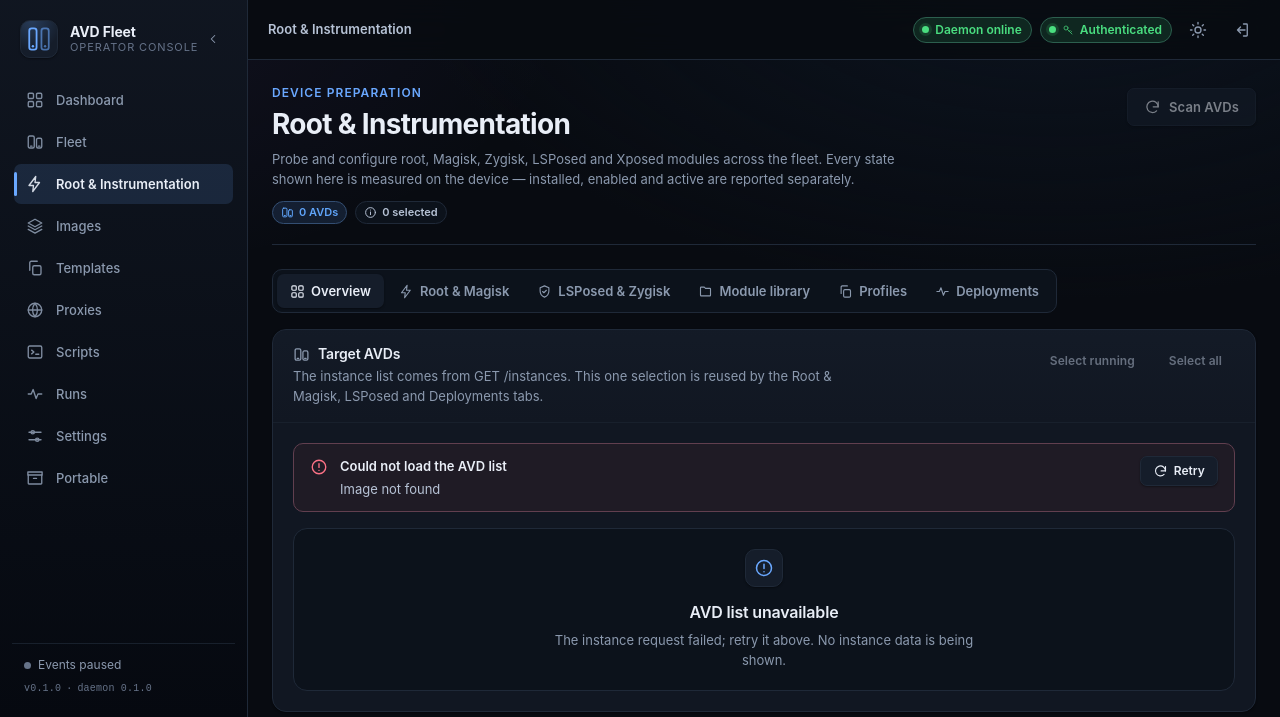
Scenario: Root & Instrumentation page › never shows a success toast when a module import fails and surfaces the API error
Check: the heading "Root & Instrumentation" is shown, box x1=272 y1=108 x2=570 y2=141
Click the tab "Module library": (754, 291) x1=685 y1=274 x2=823 y2=308
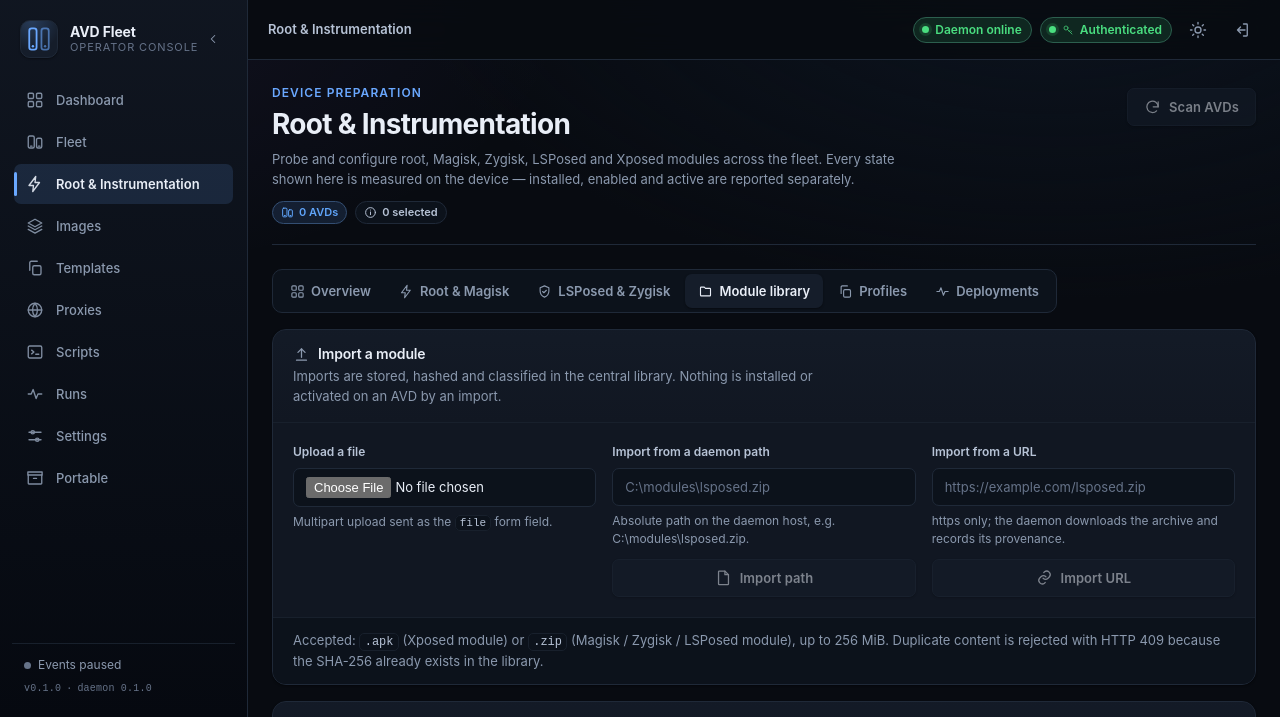
In the field labelled "Import from a daemon path": (764, 487) x1=612 y1=468 x2=916 y2=506, type "C:\\modules\\notes.txt"
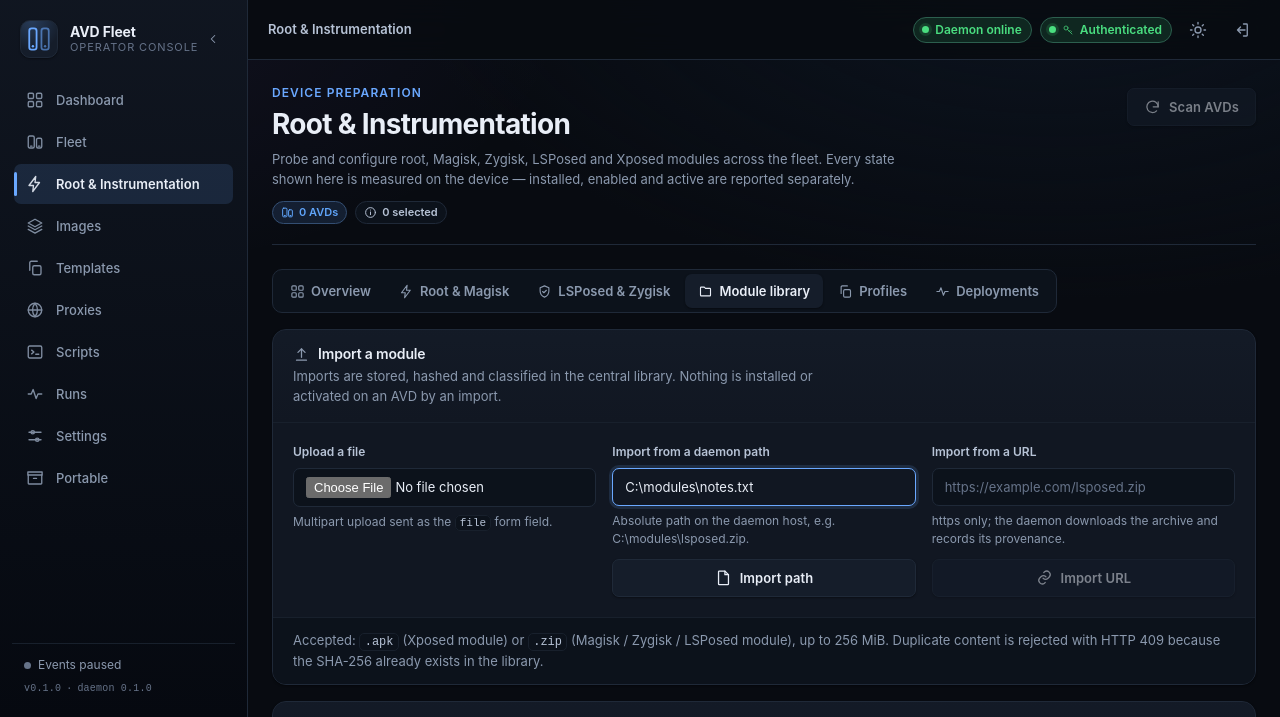
Click the button "Import path": (764, 578) x1=612 y1=559 x2=916 y2=597
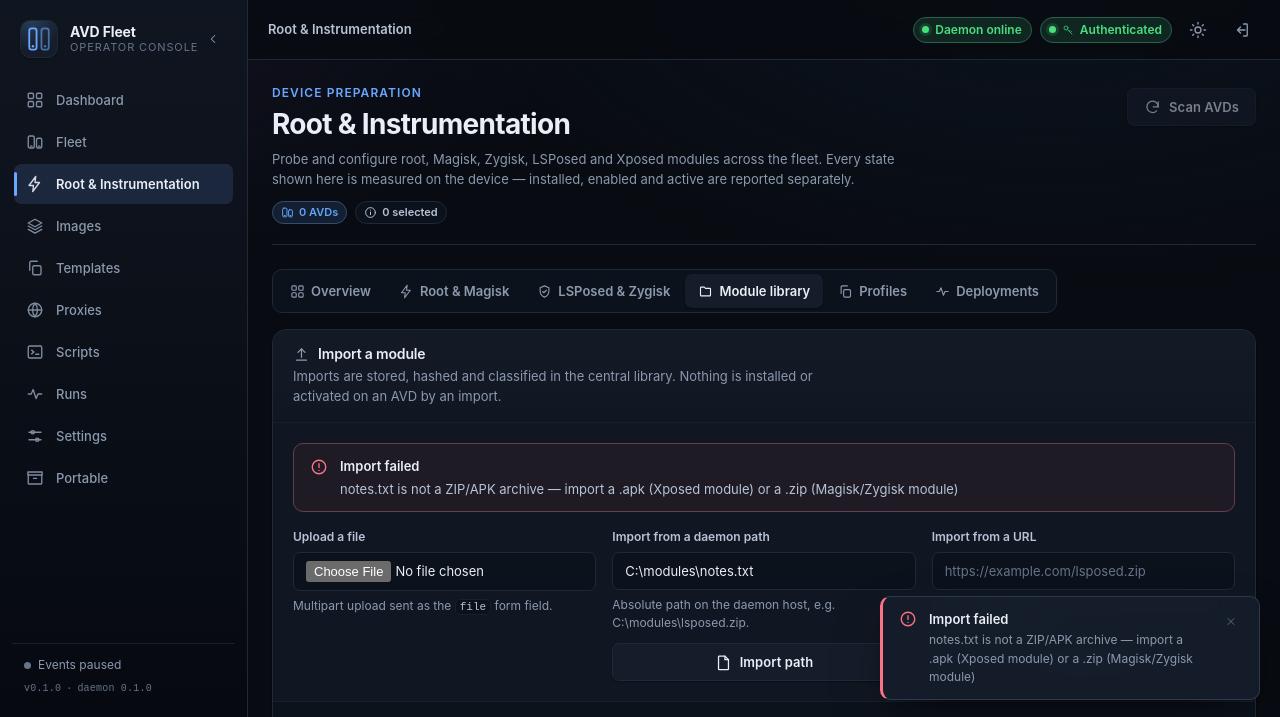
Check: the text "not a ZIP/APK archive" below "Import a module" is shown, box x1=340 y1=480 x2=958 y2=496
